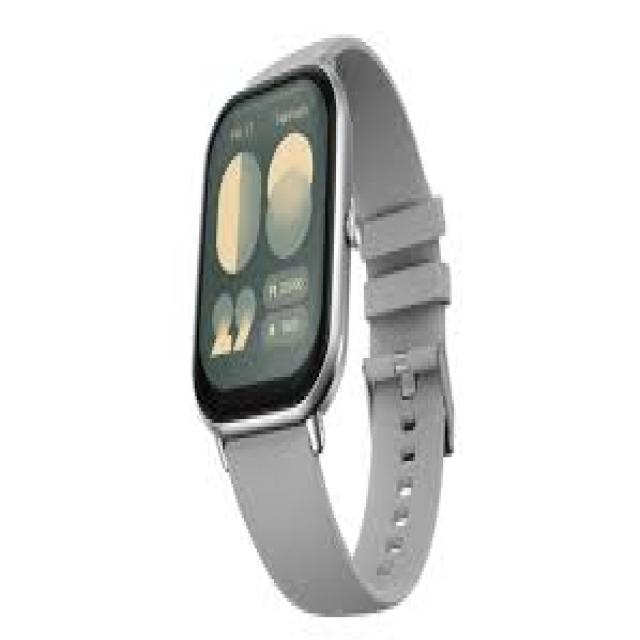objects: (197, 34, 454, 610)
